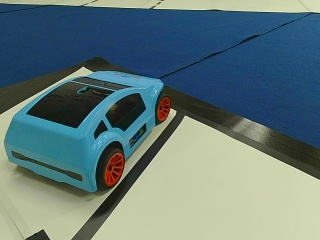car: (6, 70, 178, 191)
